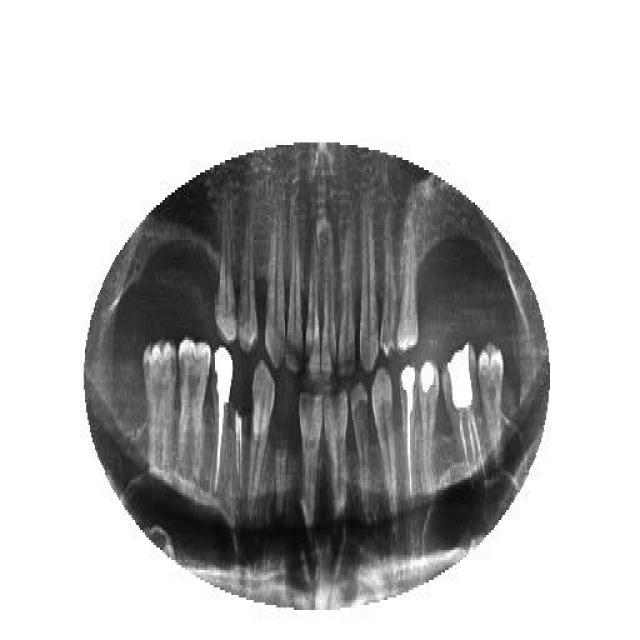Cavity: (272, 420, 288, 520), (230, 398, 246, 488)
Fillings: (419, 360, 440, 485)
Implant: (441, 342, 491, 490), (208, 348, 234, 500), (399, 365, 419, 505)
